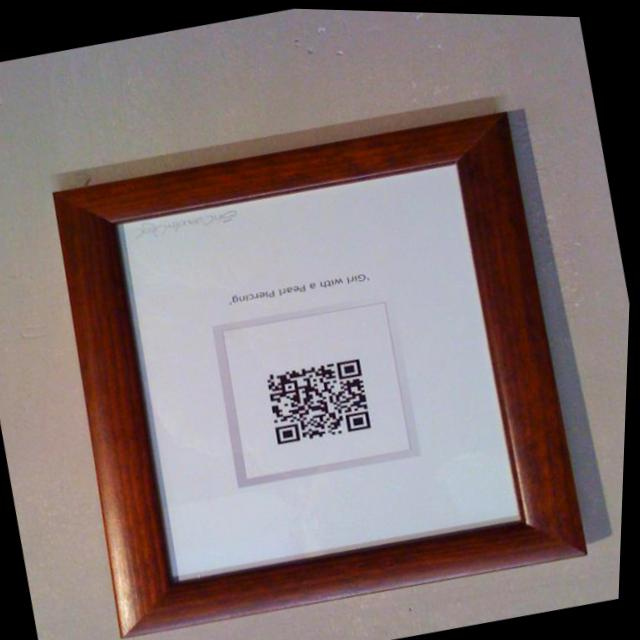qrcode: (267, 354, 376, 444)
